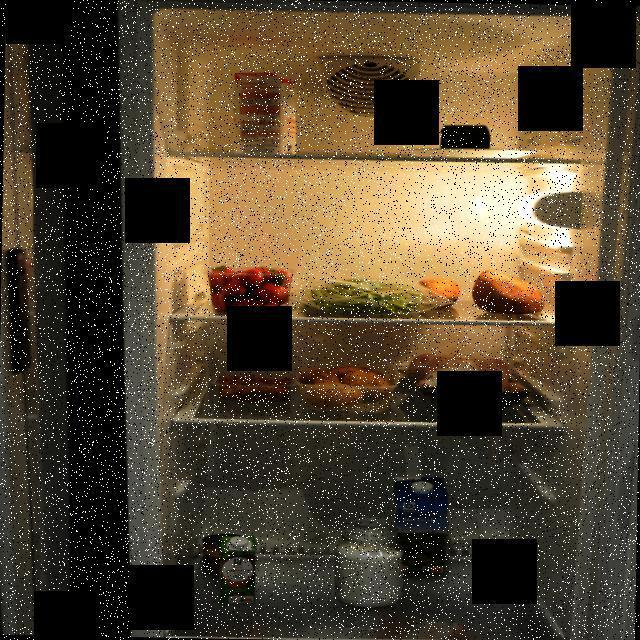beans: (294, 274, 456, 318)
cheese: (438, 124, 492, 150)
chicken breast: (395, 349, 534, 412)
corn: (202, 532, 248, 578)
cream: (218, 534, 256, 604)
milk: (390, 473, 452, 578)
potato: (293, 365, 395, 412)
shrimp: (215, 371, 290, 408)
strawberry: (205, 262, 299, 314)
sugar: (334, 514, 406, 610), (230, 70, 300, 156)
sweet potato: (472, 266, 548, 317), (421, 273, 464, 303)
